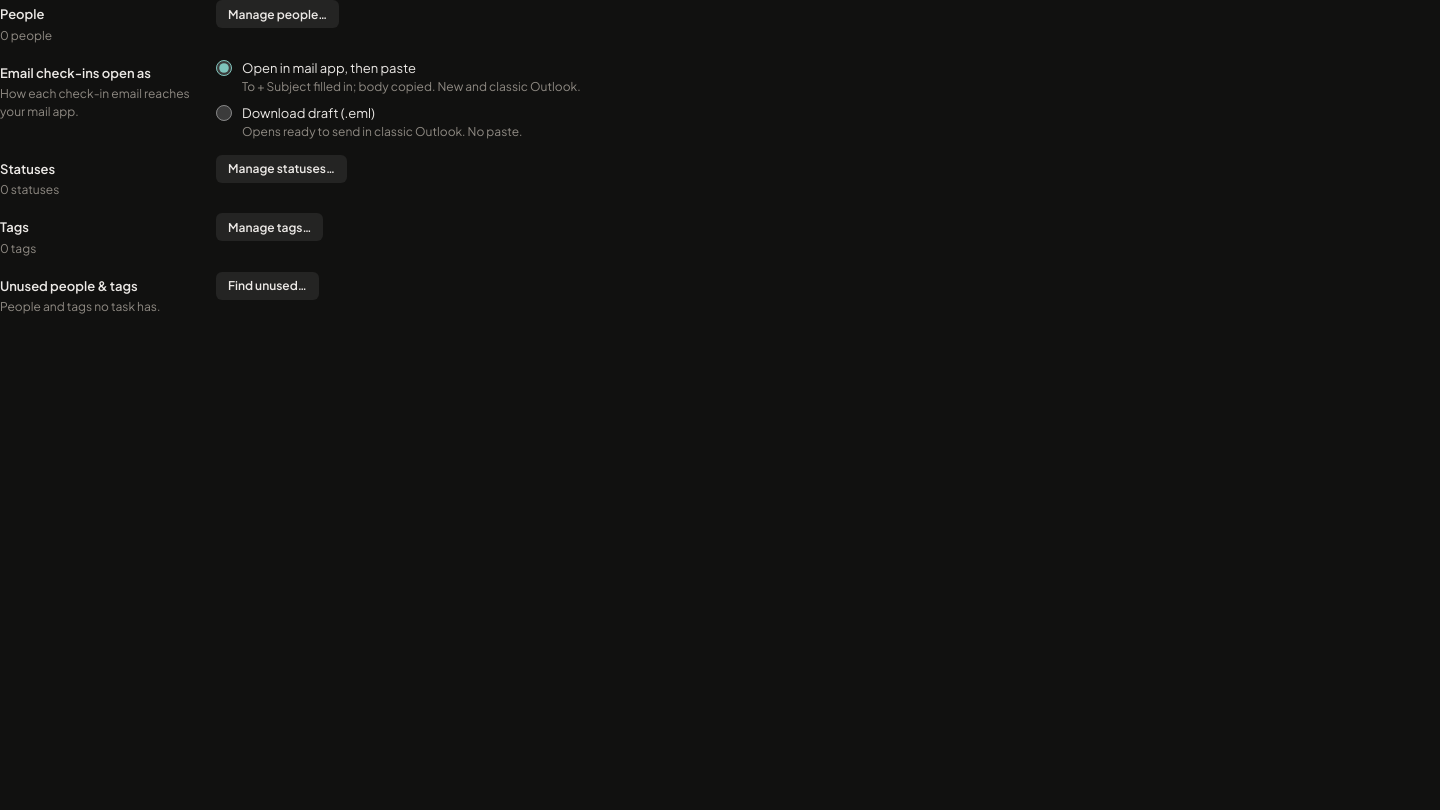
Test: EntitiesSection — Unused people & tags › desktop: the row comes after Tags; Find unused… opens the dialog, × closes it
Expected: the text "Unused people & tags" is shown, [0,278,138,294]
Expected: the text "People and tags no task has." is shown, [0,299,160,314]
Click the button "Find unused…".
click(267, 286)  # box [216,272,319,300]
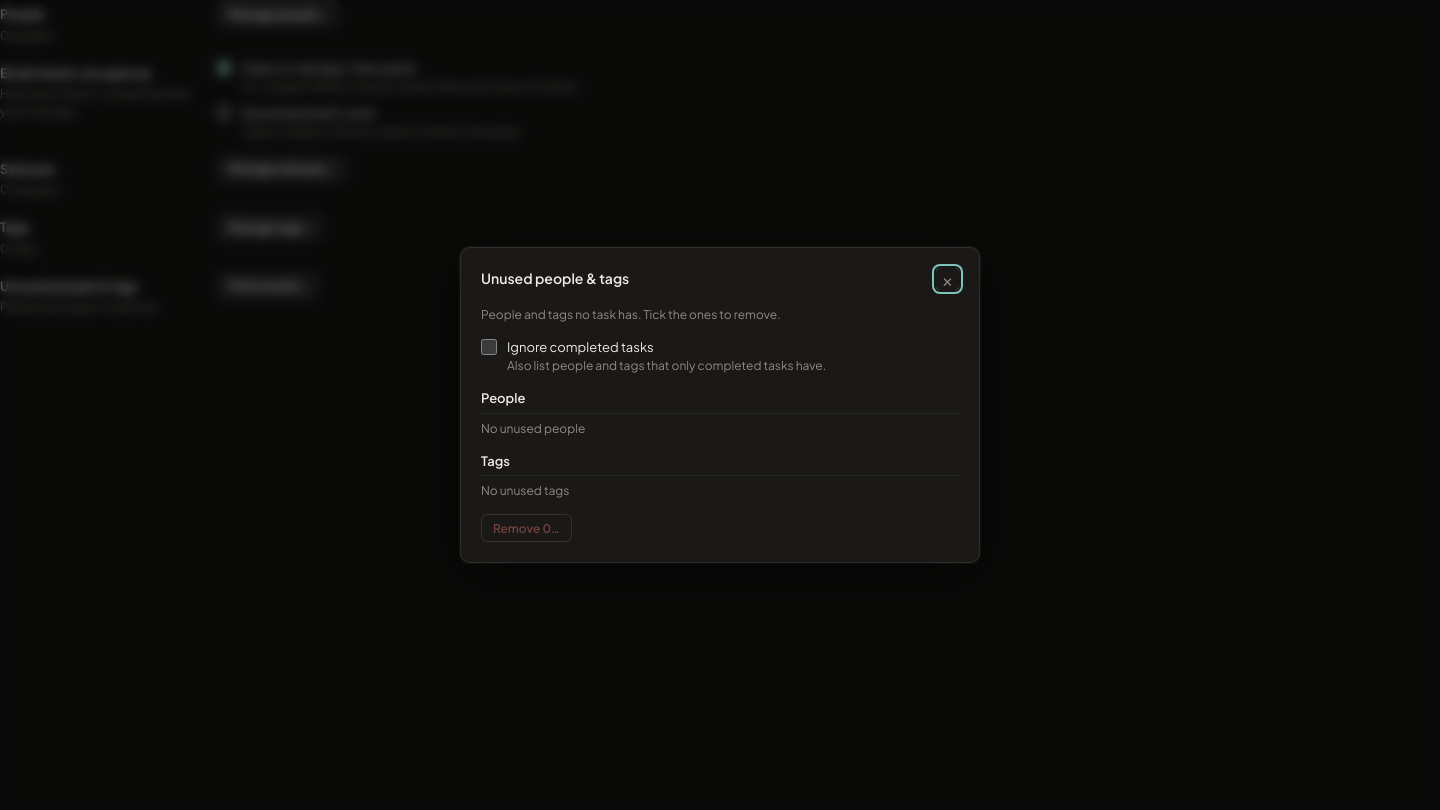
Result: the checkbox labelled "Ignore completed tasks" is not checked at [481,339,497,355]
Result: the text "No unused people" is shown at [481,421,585,436]
Click the button "×".
click(948, 279)  # box [936,268,959,290]
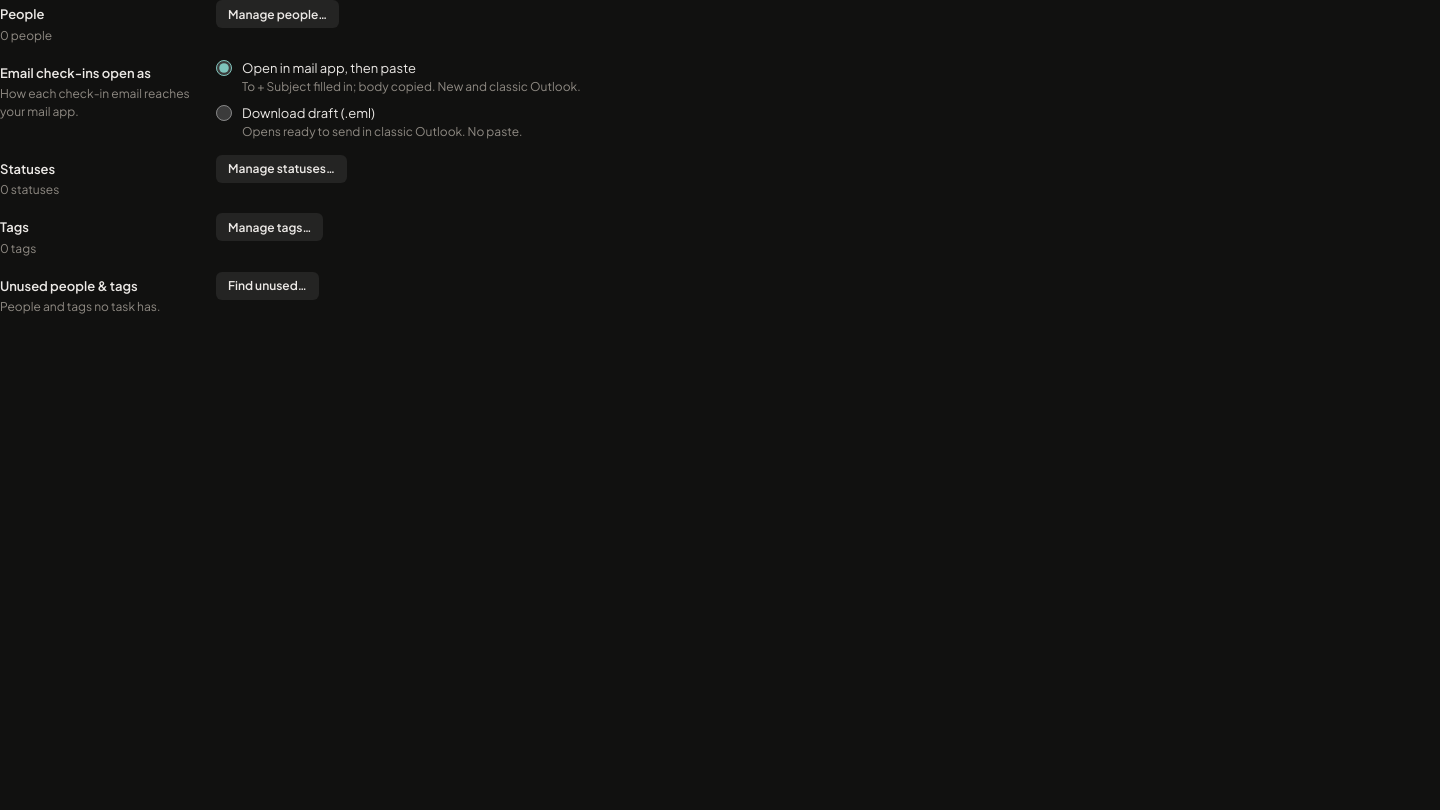
Result: the dialog is gone
